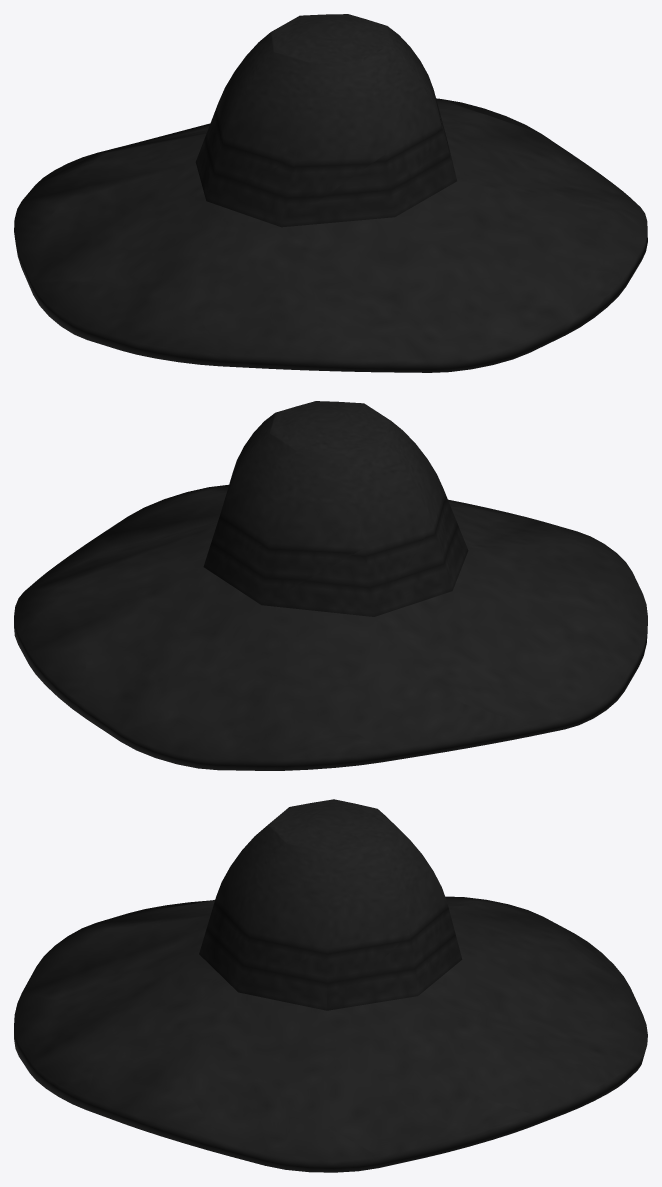
The model's file is WorldItem-LadyDHat.fbx.
The picture shows the model from 3 angles, top to bottom: view 1: azimuth 30°, elevation 25°; view 2: azimuth 150°, elevation 25°; view 3: azimuth 270°, elevation 25°; orthographic projection.
Visible parts, largest first — view 1: F_SummerHat; view 2: F_SummerHat; view 3: F_SummerHat.
Boxes of the visible parts, x1,y1,x2,y2 form: F_SummerHat: [14, 14, 647, 372]; F_SummerHat: [14, 401, 647, 770]; F_SummerHat: [14, 799, 647, 1172].
Size of the model in its own units: 0.3333 by 0.1346 by 0.3355.
